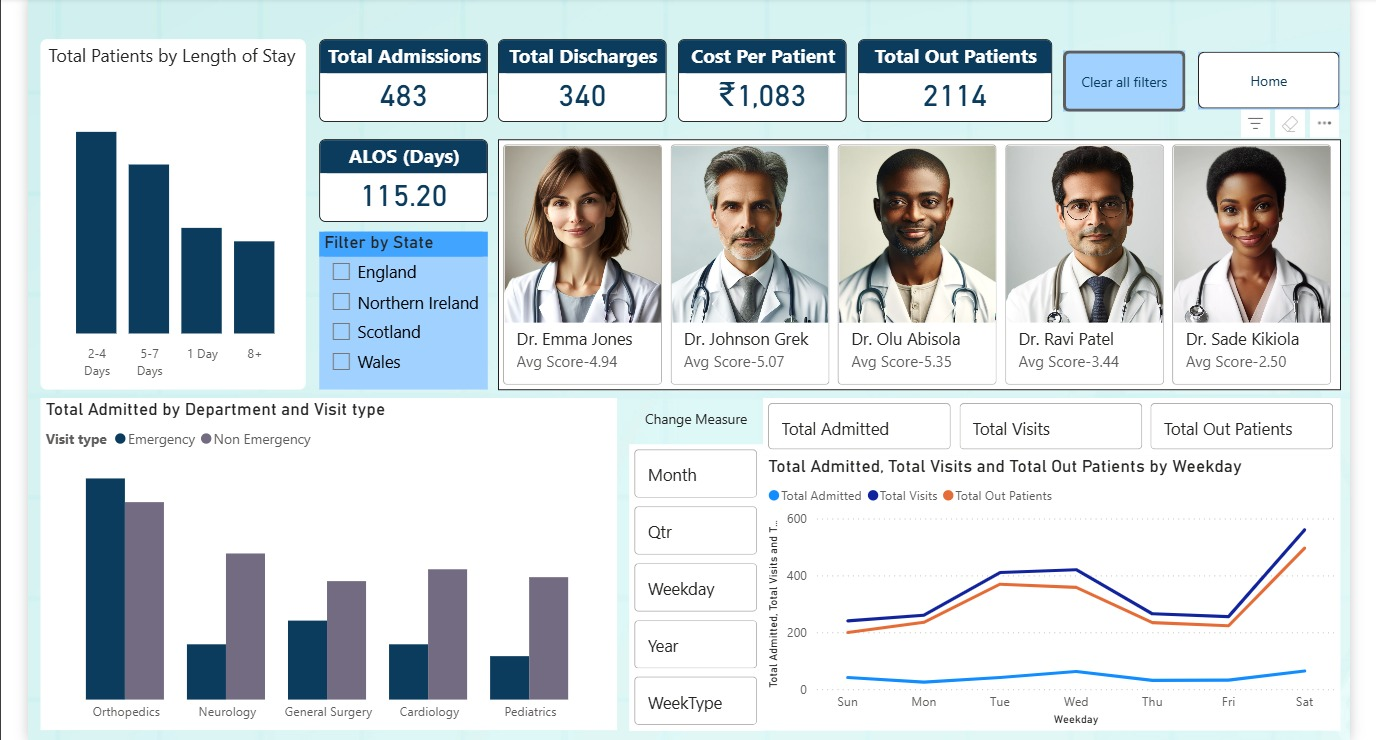

Layout of this report page (visuals, bound fields, positions):
{"tool":"powerbi","page":{"name":"Next","canvas":[1280,720],"ordinal":1},"visuals":[{"type":"lineChart","fields":{"Category":["DateTable.Month","DateTable.Qtr","DateTable.Weekday","DateTable.Year","DateTable.WeekType"],"Y":["DAX calculations.Total Admitted","DAX calculations.Total Visits","ChangeCalendar.Total Out Patients"]},"box":[711.8,443,559.2,266.3],"z":0},{"type":"advancedSlicerVisual","fields":{"Values":["ChangeCalendar.ChangeCalendar"]},"box":[582.2,432.1,129.5,277.2],"z":1000},{"type":"advancedSlicerVisual","fields":{"Values":["ChangeMeasuresLinechart.ChangeMeasuresLinechart"]},"box":[711.8,387.4,559.2,55.7],"z":2000},{"type":"clusteredColumnChart","title":"Total Patients by Length of Stay ","fields":{"Category":["visits.Length of Stay 2"],"Y":["DAX calculations.Total Patients"]},"box":[12.1,39.9,256.6,338.9],"z":3000},{"type":"clusteredColumnChart","fields":{"Y":["DAX calculations.Total Admitted"],"Series":["visits.Visit type"],"Category":["departments.Department"]},"box":[12.1,387.4,558,322],"z":4000},{"type":"card","title":"Total Admissions","fields":{"Values":["ChangeCalendar.Total Admissions"]},"box":[282,39.9,163.4,79.9],"z":5000},{"type":"advancedSlicerVisual","fields":{"Values":["providers.Provider Name"]},"box":[455.1,136.8,815.9,243.3],"z":6000},{"type":"slicer","title":"Filter by State","fields":{"Values":["cities.State"]},"box":[282,226.4,163.4,152.5],"z":7000},{"type":"textbox","box":[582.2,393.4,129.5,44.8],"z":8000},{"type":"card","title":"ALOS (Days)","fields":{"Values":["DAX calculations.Avg Length of Stay"]},"box":[282,136.8,163.4,79.9],"z":9000},{"type":"card","title":"Cost Per Patient","fields":{"Values":["DAX calculations.Cost per Patient"]},"box":[629.5,39.9,163.4,79.9],"z":10000},{"type":"card","title":"Total Discharges","fields":{"Values":["ChangeCalendar.Total Discharges"]},"box":[455.1,39.9,163.4,79.9],"z":11000},{"type":"card","title":"Total Out Patients","fields":{"Values":["ChangeCalendar.Total Out Patients"]},"box":[803.8,39.9,187.6,79.9],"z":12000},{"type":"actionButton","box":[1002.3,50.8,118.6,59.3],"z":13000},{"type":"pageNavigator","box":[1133,52.1,138,55.7],"z":14000}]}

Visuals, with their boxes on the page's 1280x720 design canvas (x1, y1, x2, y2). These are canvas units, not pixel positions in the 1376x740 screenshot, which may show the page scaled, cropped or inside an application window:
lineChart - DateTable.Month x DateTable.Qtr: box(712, 443, 1271, 709)
advancedSlicerVisual - ChangeCalendar.ChangeCalendar: box(582, 432, 712, 709)
advancedSlicerVisual - ChangeMeasuresLinechart.ChangeMeasuresLinechart: box(712, 387, 1271, 443)
"Total Patients by Length of Stay " clusteredColumnChart: box(12, 40, 269, 379)
clusteredColumnChart - DAX calculations.Total Admitted x visits.Visit type: box(12, 387, 570, 709)
"Total Admissions" card: box(282, 40, 445, 120)
advancedSlicerVisual - providers.Provider Name: box(455, 137, 1271, 380)
"Filter by State" slicer: box(282, 226, 445, 379)
textbox: box(582, 393, 712, 438)
"ALOS (Days)" card: box(282, 137, 445, 217)
"Cost Per Patient" card: box(630, 40, 793, 120)
"Total Discharges" card: box(455, 40, 618, 120)
"Total Out Patients" card: box(804, 40, 991, 120)
actionButton: box(1002, 51, 1121, 110)
pageNavigator: box(1133, 52, 1271, 108)
